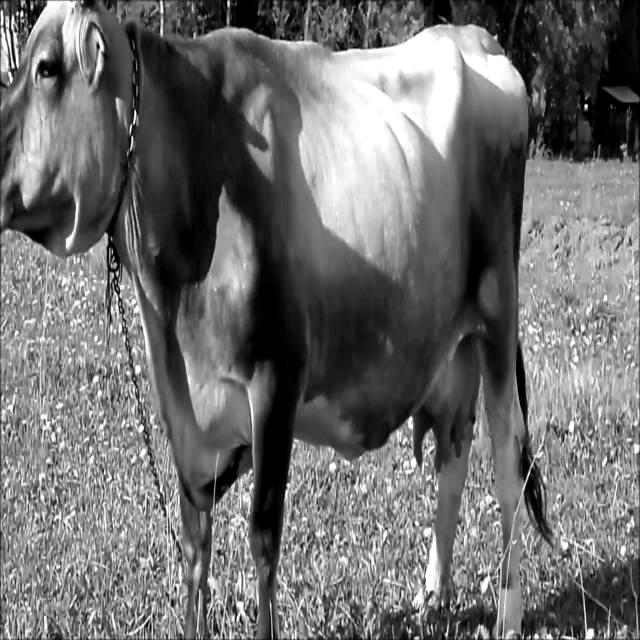COW: (0, 2, 548, 640)
